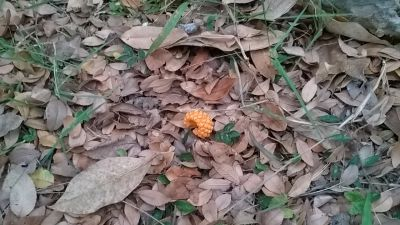eggs: (184, 109, 214, 139)
